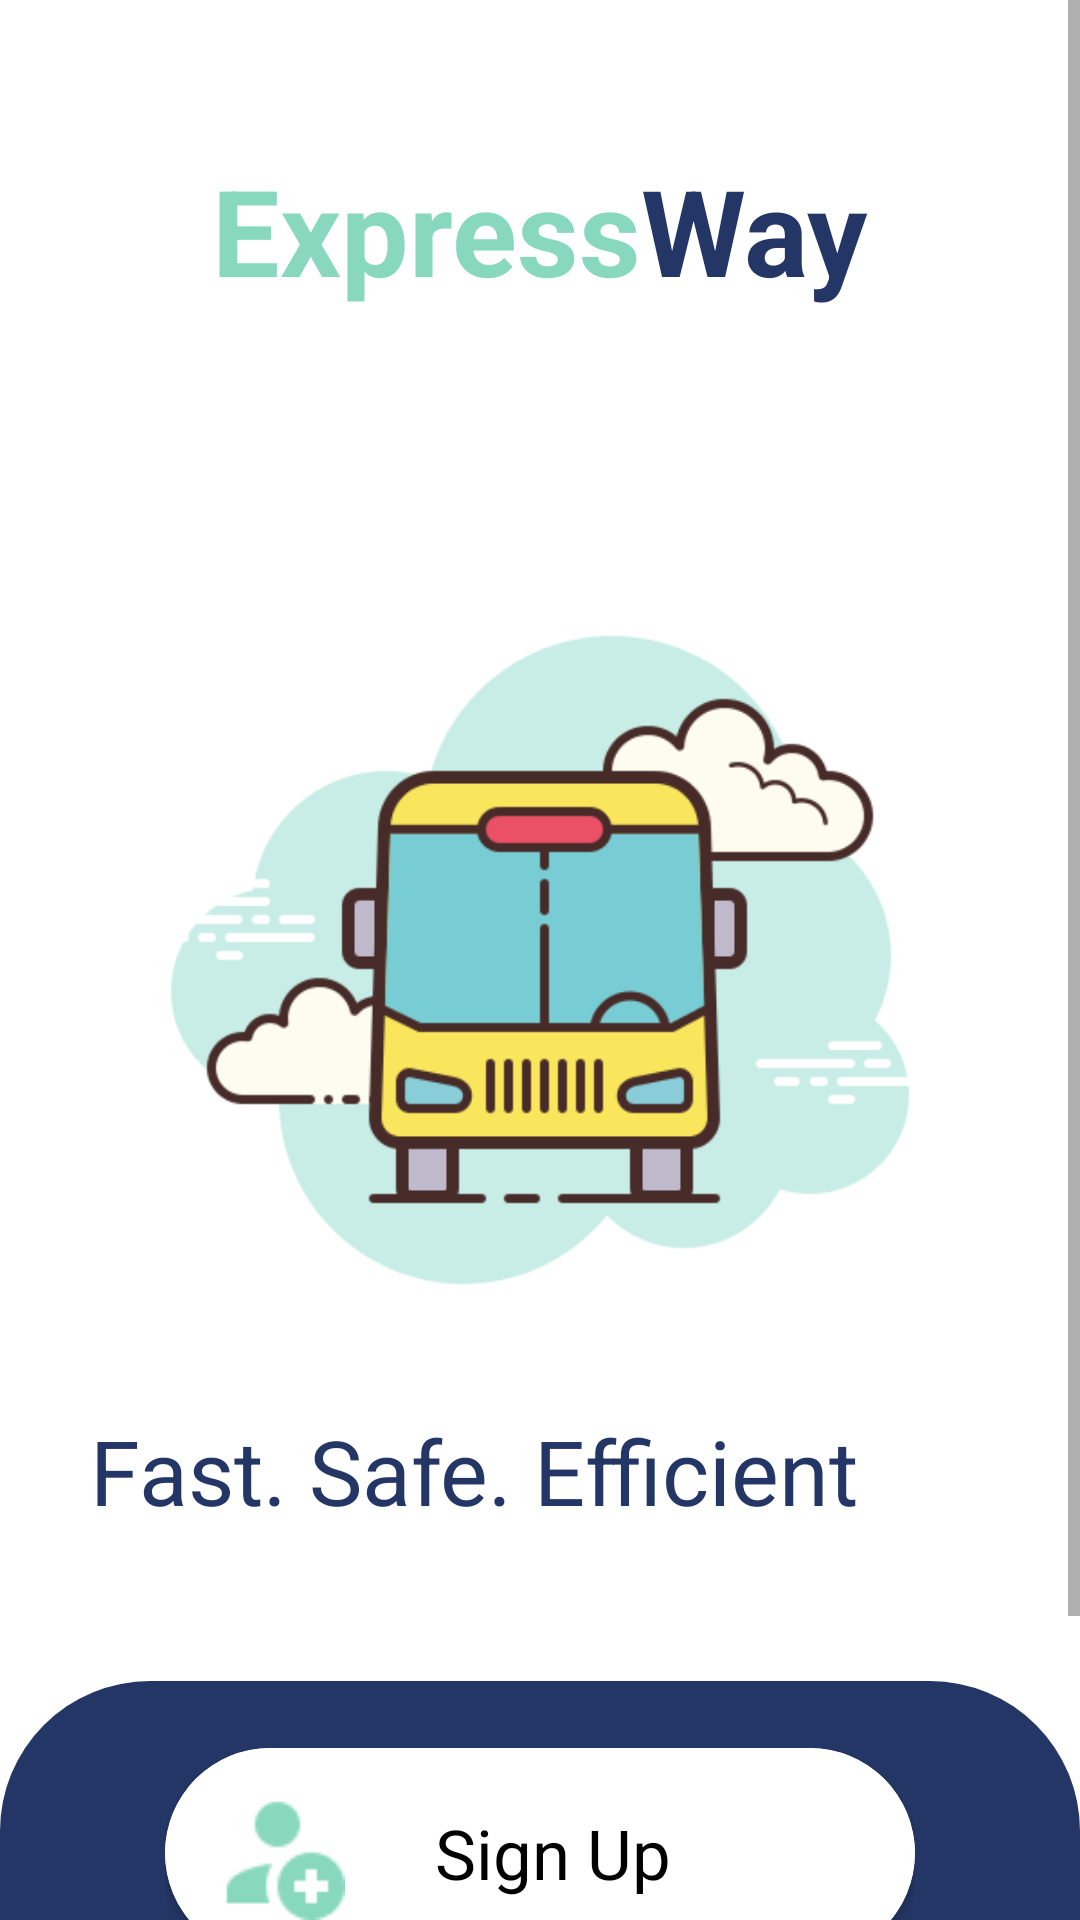

Icon click points for this 1080px x 1920px phone screenshot, format (x,y):
register: (285,1860)
